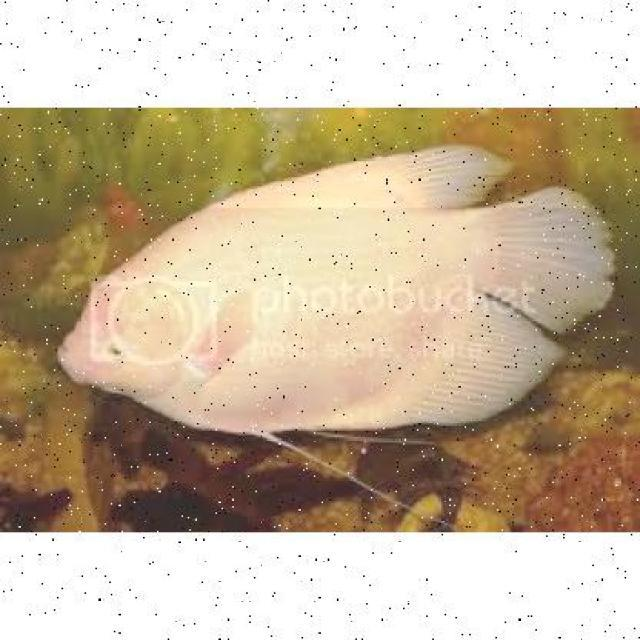gurame: (63, 152, 612, 420)
